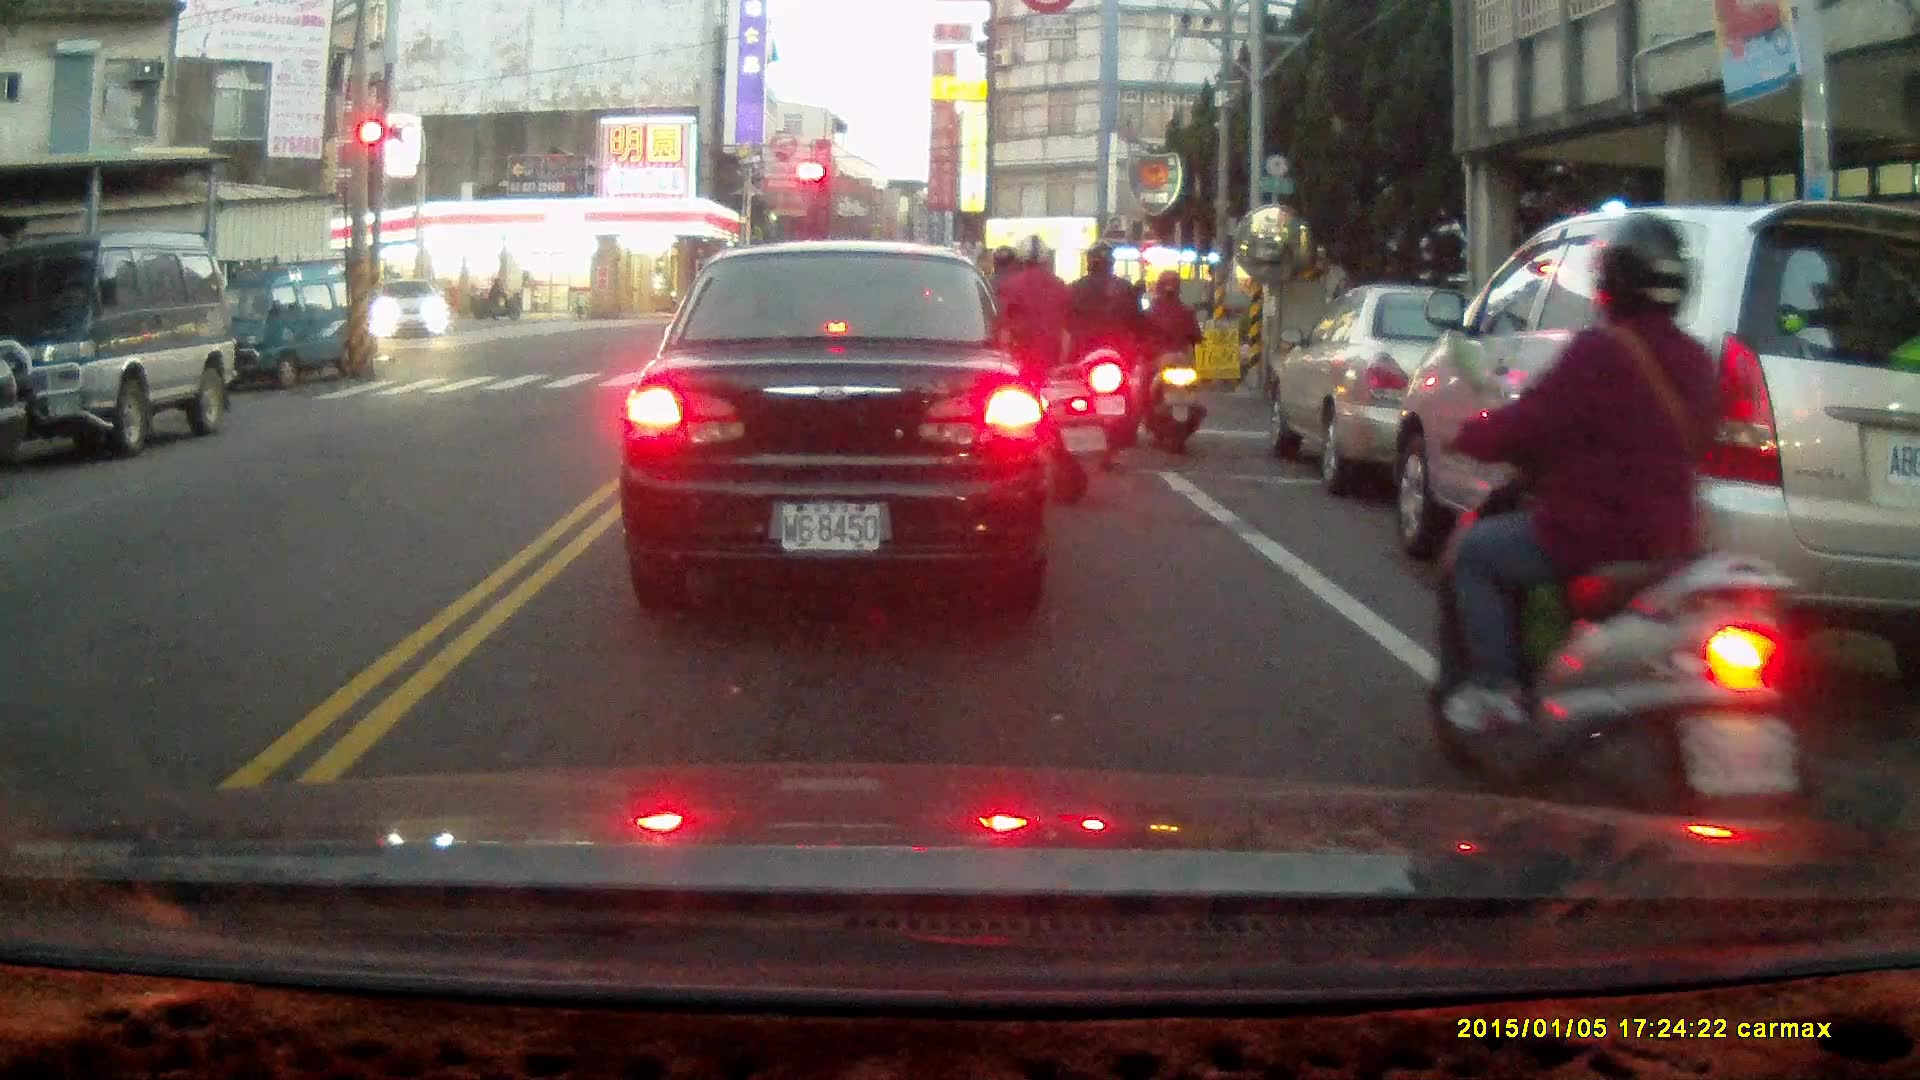rider: (1435, 213, 1816, 877), (974, 234, 1107, 506), (1048, 242, 1141, 468), (960, 239, 1056, 434), (1134, 269, 1204, 450), (474, 279, 520, 322)
vehicle: (1378, 197, 1920, 689), (617, 243, 1061, 606), (1266, 285, 1568, 499), (1, 234, 239, 458), (194, 255, 381, 393), (372, 277, 451, 343)
